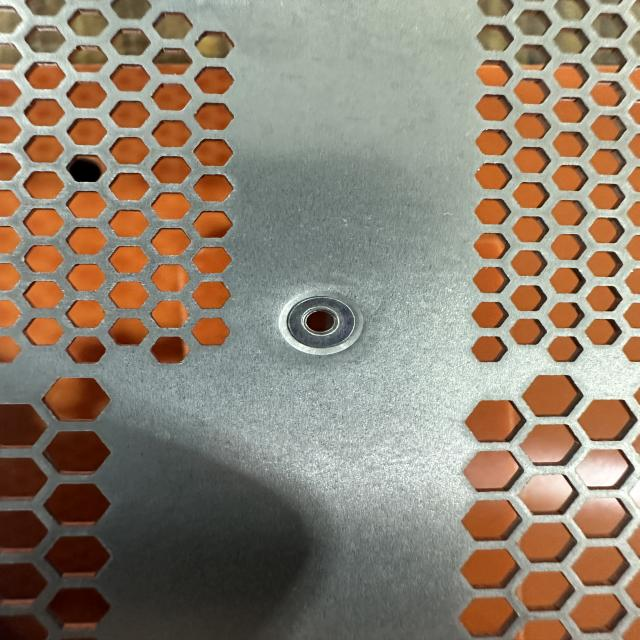Missing screw: (270, 285, 376, 359)
